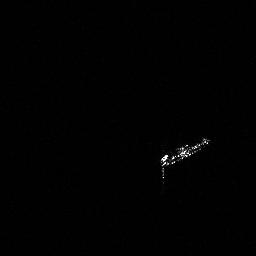ship: (160, 138, 211, 166)
